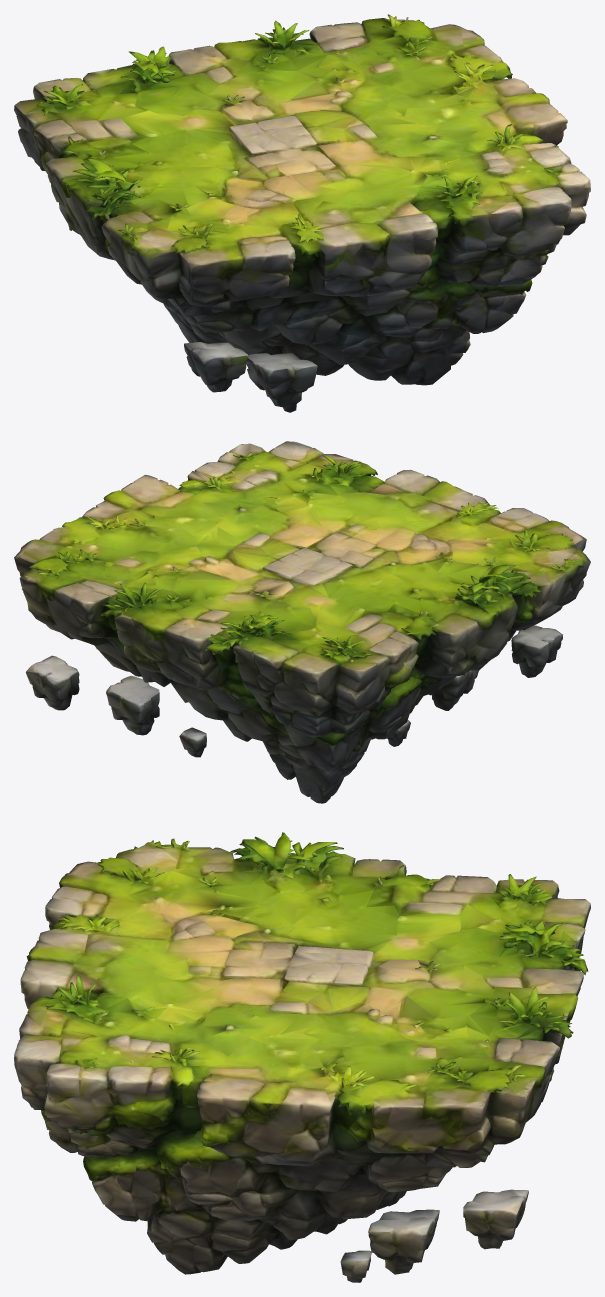
Rendered from Island_Plateau.fbx.
3 views of the same model, one above another, from view 1: azimuth 30°, elevation 25°; view 2: azimuth 150°, elevation 25°; view 3: azimuth 270°, elevation 25° (orthographic). The views are drawn at different scales.
Visible parts, largest first — view 1: Island_Plateau; view 2: Island_Plateau; view 3: Island_Plateau.
Boxes of the visible parts, box(x1,y1,x2,y2) form: Island_Plateau: box(14, 14, 590, 412); Island_Plateau: box(14, 441, 590, 803); Island_Plateau: box(14, 832, 590, 1282).
Bounding box in the file's own units: 900 × 450 × 830.
Materials: 1 (1 with a texture image).
